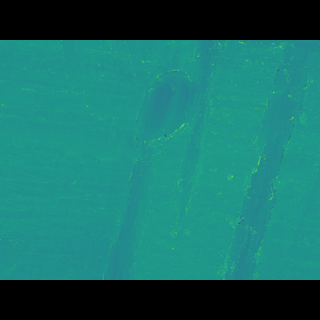Loch: (0, 69, 246, 249), (207, 70, 319, 249)
